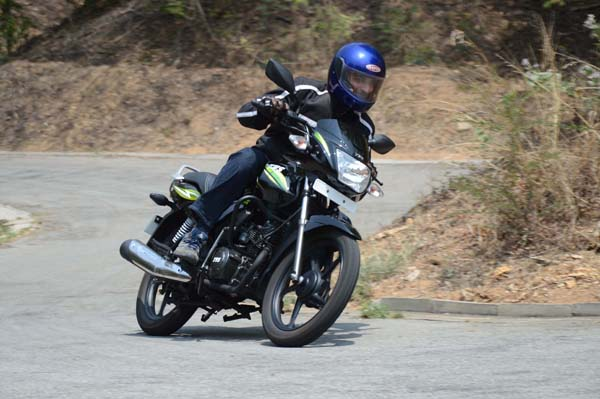helmet: (328, 44, 385, 110)
